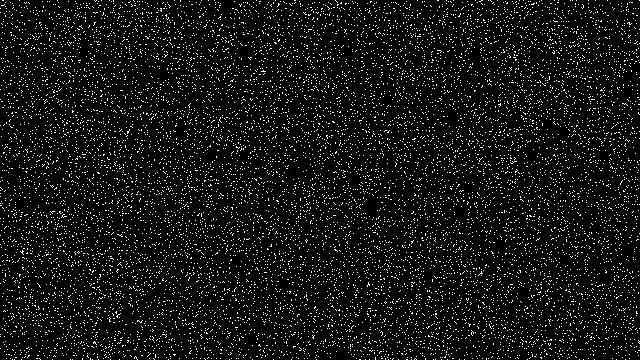pot: (132, 69, 262, 207), (11, 164, 88, 242)
